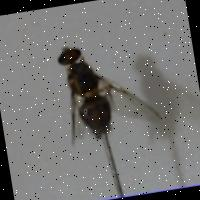Oriental-fruit-fly: (41, 27, 179, 168)
